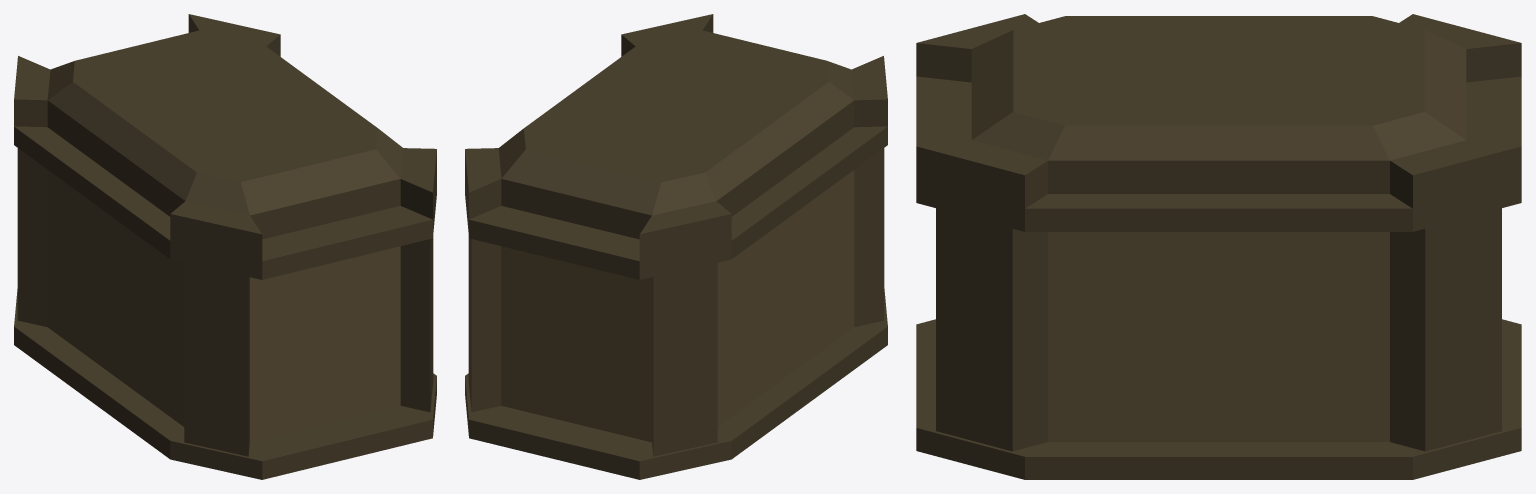
3 renders of one model, left to right at view 1: azimuth 30°, elevation 25°; view 2: azimuth 150°, elevation 25°; view 3: azimuth 270°, elevation 25°, orthographic. The views are drawn at different scales.
Visible parts, largest first — view 1: Cube.009; view 2: Cube.009; view 3: Cube.009.
Part boxes in pixels (bbox=[...]): Cube.009: bbox=[14, 14, 436, 479]; Cube.009: bbox=[465, 14, 887, 479]; Cube.009: bbox=[916, 14, 1521, 479].
Size of the model in its own units: 308 by 292 by 488.
